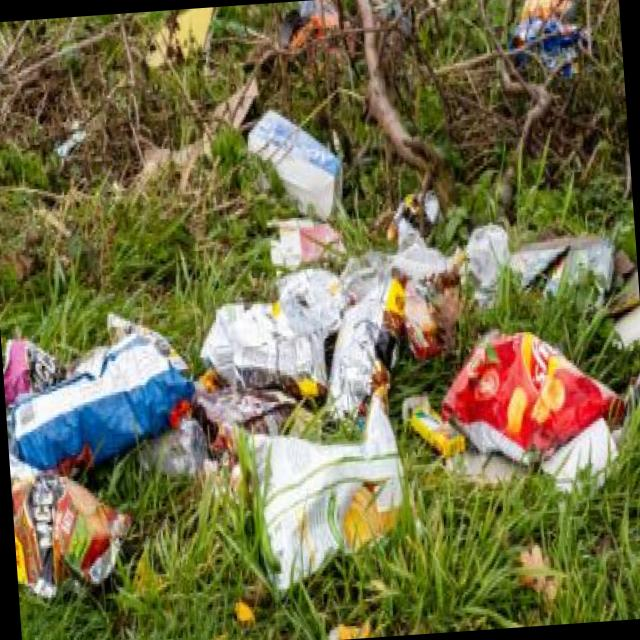electronic: (433, 318, 632, 502), (503, 0, 593, 82), (138, 7, 222, 76), (604, 243, 640, 354), (275, 0, 342, 57), (624, 300, 640, 436)
